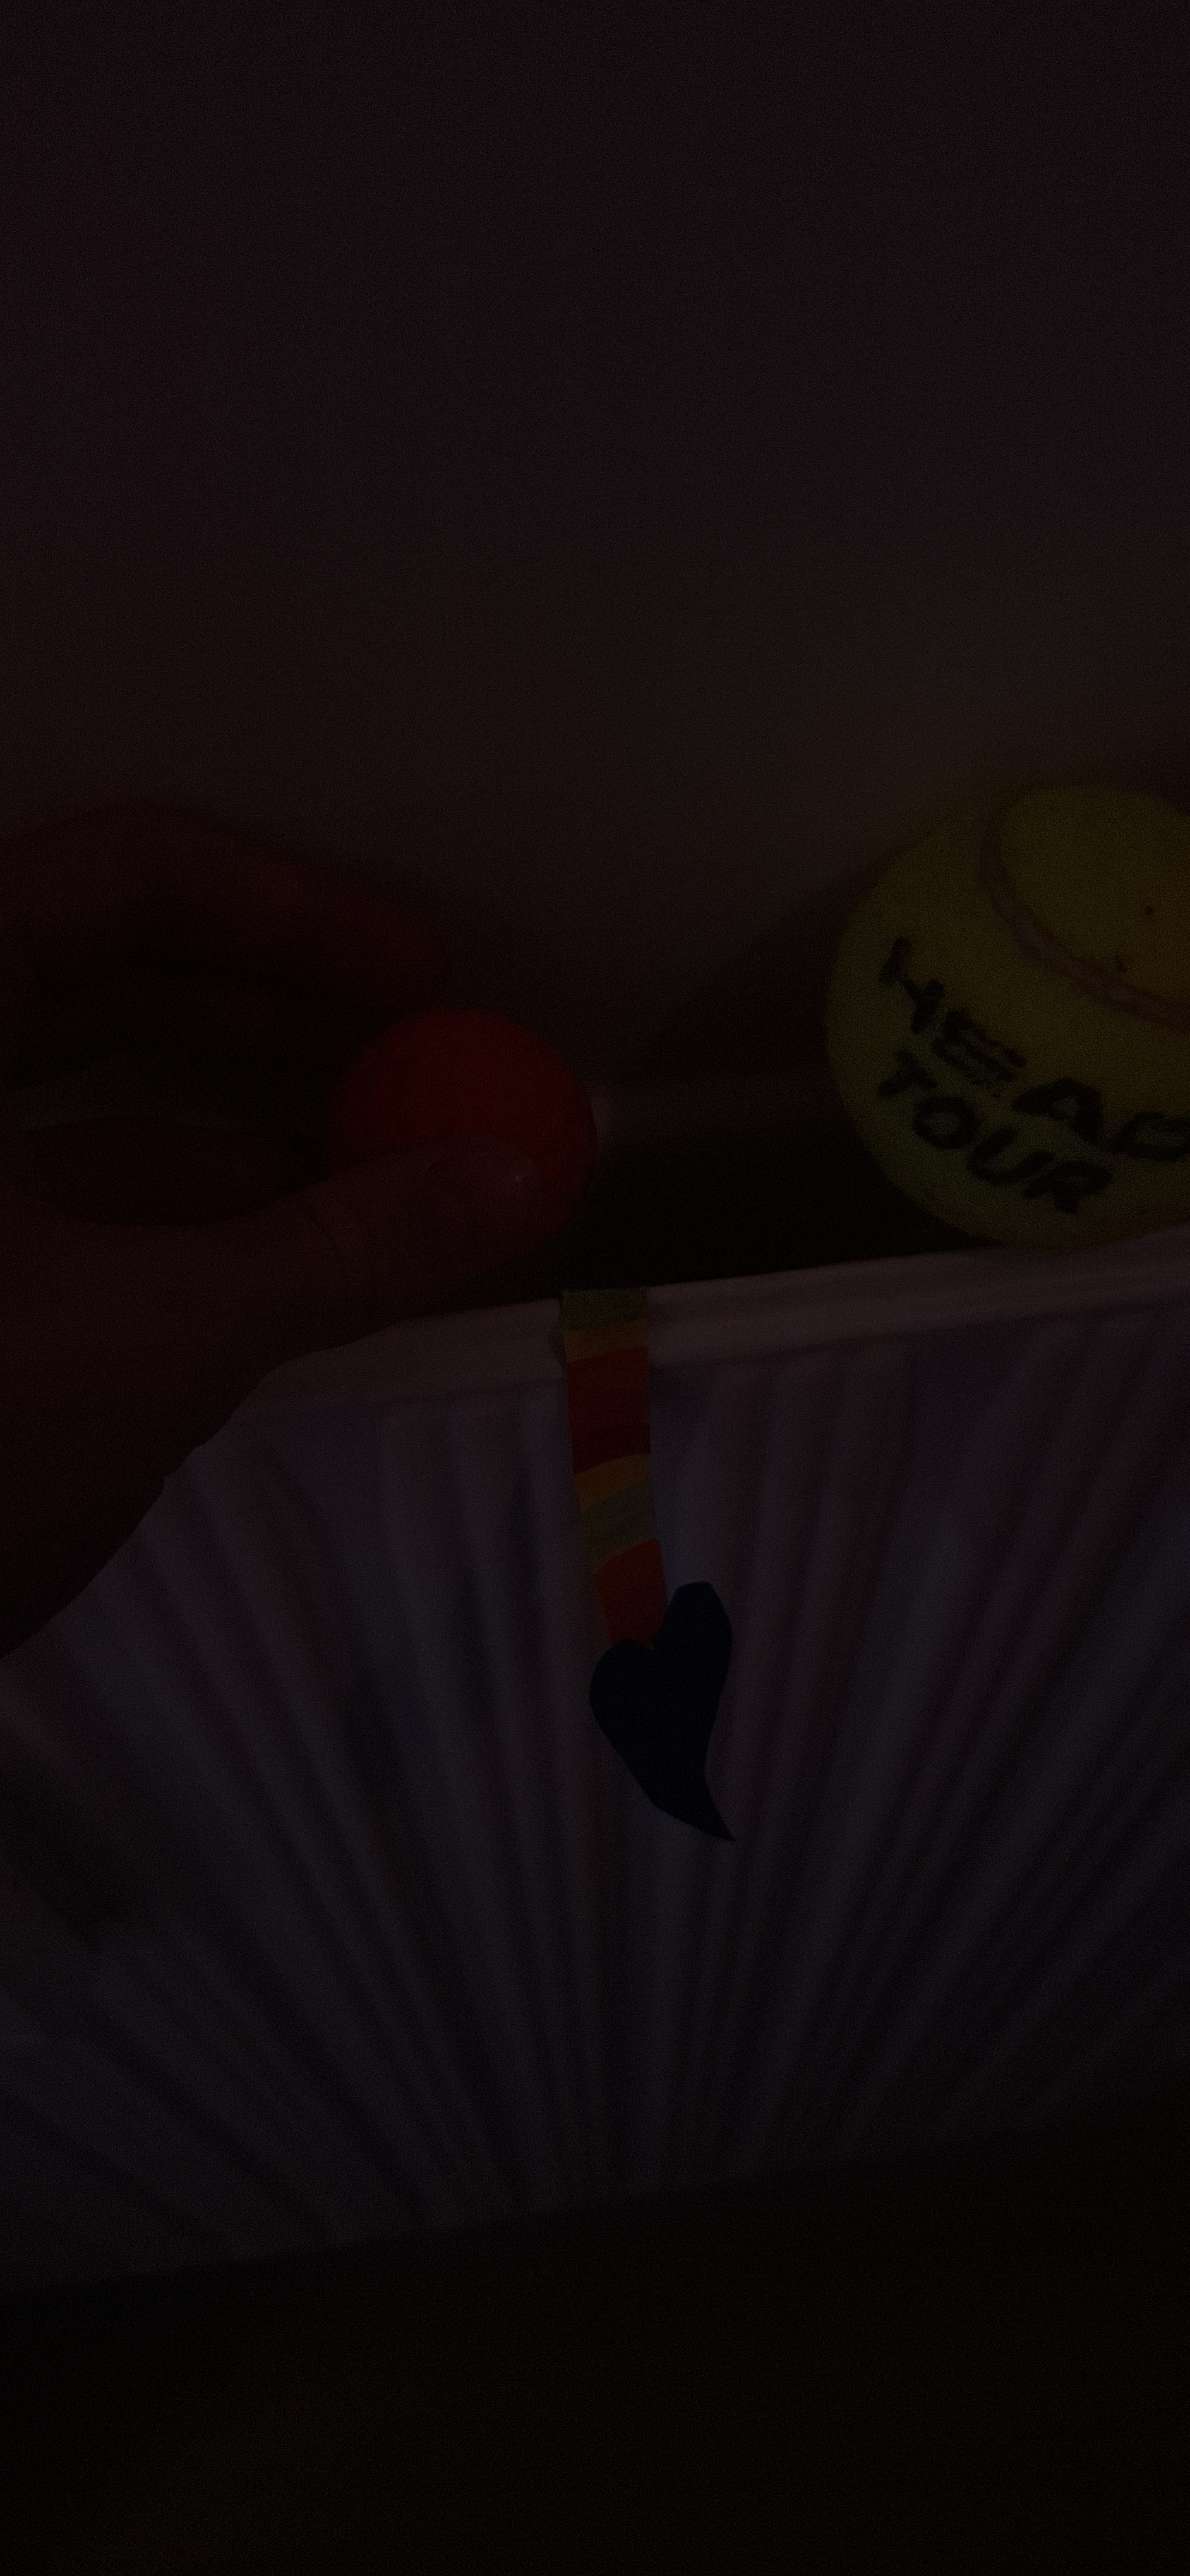ball: (467, 1290, 588, 1879)
